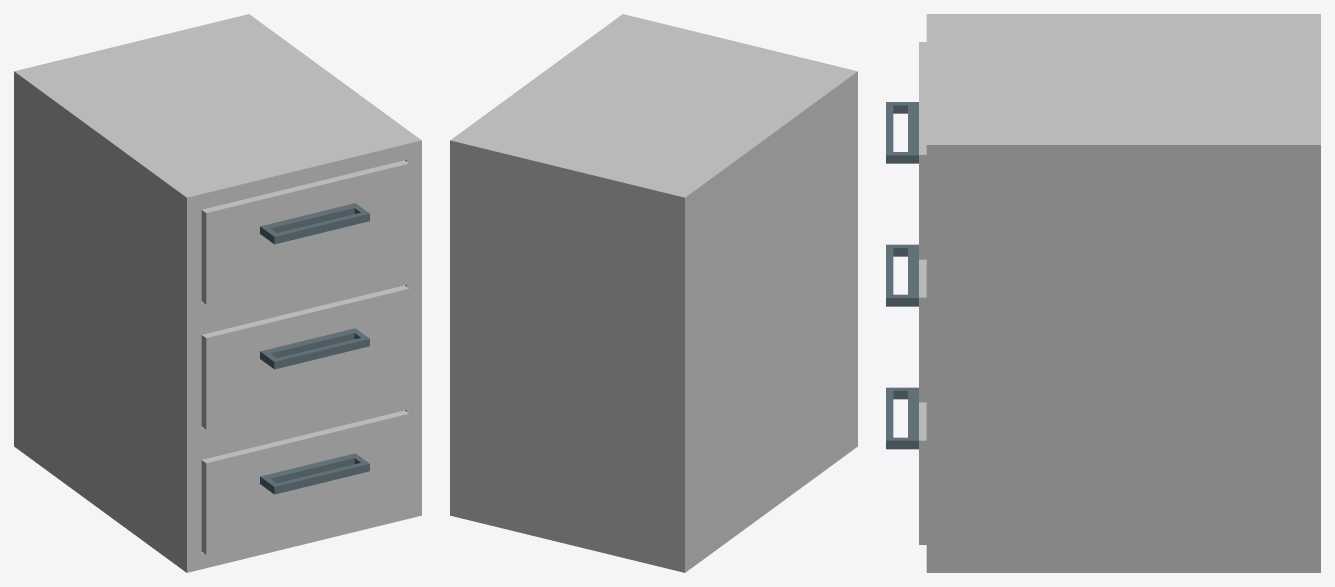
File: CabinetMediumV1White.fbx
3 views of the same model, side by side, from view 1: azimuth 30°, elevation 25°; view 2: azimuth 150°, elevation 25°; view 3: azimuth 270°, elevation 25° (orthographic). The views are drawn at different scales.
Visible parts, largest first — view 1: CabinetMediumV1White, CabinetMediumV1White_Drawer1, CabinetMediumV1White_Drawer2, CabinetMediumV1White_Drawer3; view 2: CabinetMediumV1White; view 3: CabinetMediumV1White, CabinetMediumV1White_Drawer1, CabinetMediumV1White_Drawer2, CabinetMediumV1White_Drawer3.
Part boxes in pixels (box(x1,y1,x2,y2)): CabinetMediumV1White: box(14, 14, 421, 572); CabinetMediumV1White_Drawer1: box(201, 160, 409, 304); CabinetMediumV1White_Drawer2: box(201, 285, 409, 429); CabinetMediumV1White_Drawer3: box(201, 410, 409, 554); CabinetMediumV1White: box(450, 14, 857, 572); CabinetMediumV1White: box(926, 14, 1320, 572); CabinetMediumV1White_Drawer1: box(886, 42, 926, 259); CabinetMediumV1White_Drawer2: box(886, 244, 926, 402); CabinetMediumV1White_Drawer3: box(886, 387, 926, 544).
Bounding box in the file's own units: 39.32 × 60 × 55.23.
